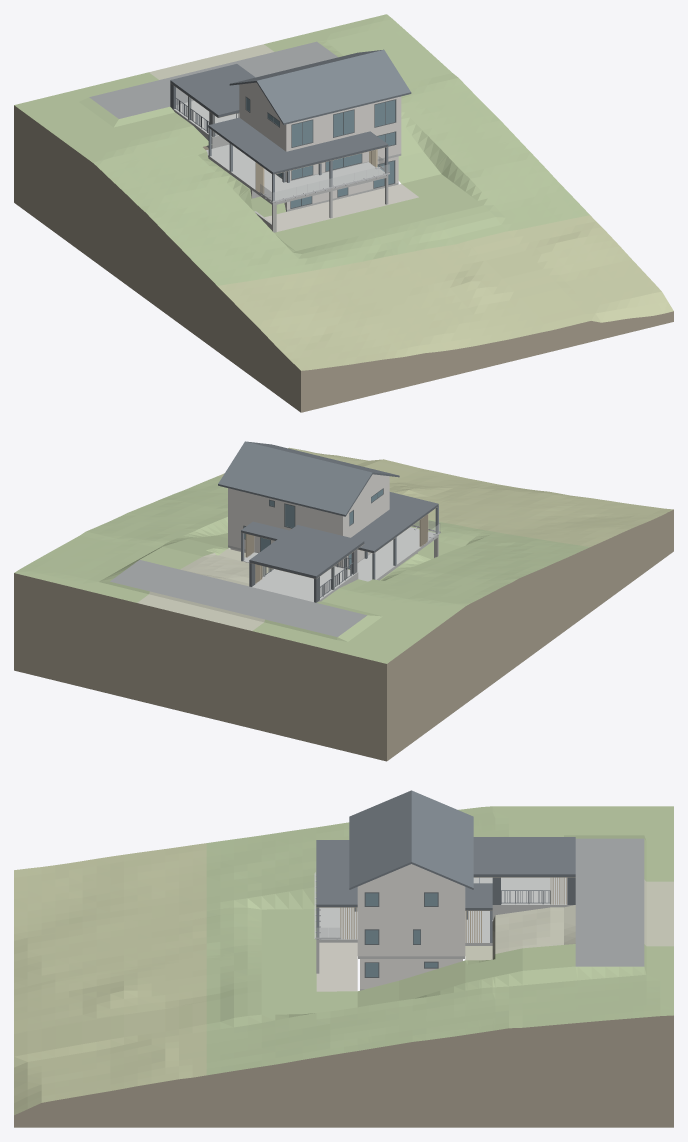
Rendered from Schaffernak_Haus_C.glb.
3 views of the same model, one above another, from view 1: azimuth 30°, elevation 25°; view 2: azimuth 150°, elevation 25°; view 3: azimuth 270°, elevation 25° (orthographic). The views are drawn at different scales.
Visible parts, largest first — view 1: Foto_Gelaende_Rasen_Boeschung, Foto_Gelaende_Hang_unten, Foto_Gelaende_Modellrand, Satteldach_0, Strasse_parallel_zum_Haus_schematisch, Foto_Gelaende_Kies_Kellerbereich, Entwurf_Dach_vorne, Carport_Dach, Balkon_vorne, Foto_Gelaende_Seitliche_Gruenflaeche, Entwurf_Dach_links, Foto_Gelaende_Rueckseite (+3 smaller); view 2: Foto_Gelaende_Modellrand, Foto_Gelaende_Rasen_Boeschung, Foto_Gelaende_Hang_unten, Strasse_parallel_zum_Haus_schematisch, Satteldach_1, Foto_Gelaende_Rueckseite, Carport_Dach, Foto_Gelaende_Seitliche_Gruenflaeche, Carport_Boden, Entwurf_Dach_links, Balkon_links, OG_back_Wand4 (+5 smaller); view 3: Foto_Gelaende_Rasen_Boeschung, Foto_Gelaende_Modellrand, Foto_Gelaende_Hang_unten, Strasse_parallel_zum_Haus_schematisch, Foto_Gelaende_Rueckseite, Foto_Gelaende_Seitliche_Gruenflaeche, Satteldach_0, Satteldach_1, Carport_Dach, Entwurf_Dach_vorne, Carport_Boden, Foto_Gelaende_Kies_Kellerbereich (+9 smaller).
Part boxes in pixels (x1,y1,x2,y2): Foto_Gelaende_Rasen_Boeschung: [14, 14, 589, 285]; Foto_Gelaende_Hang_unten: [217, 215, 673, 370]; Foto_Gelaende_Modellrand: [14, 105, 673, 412]; Satteldach_0: [256, 50, 411, 124]; Strasse_parallel_zum_Haus_schematisch: [89, 41, 337, 118]; Foto_Gelaende_Kies_Kellerbereich: [265, 184, 418, 231]; Entwurf_Dach_vorne: [255, 131, 388, 174]; Carport_Dach: [171, 64, 254, 114]; Balkon_vorne: [255, 162, 388, 205]; Foto_Gelaende_Seitliche_Gruenflaeche: [264, 34, 440, 183]; Entwurf_Dach_links: [208, 117, 285, 160]; Foto_Gelaende_Rueckseite: [149, 44, 273, 79]; Foto_Gelaende_Modellrand: [14, 509, 673, 761]; Foto_Gelaende_Rasen_Boeschung: [14, 476, 589, 663]; Foto_Gelaende_Hang_unten: [218, 447, 673, 546]; Strasse_parallel_zum_Haus_schematisch: [110, 560, 366, 636]; Satteldach_1: [218, 441, 372, 516]; Foto_Gelaende_Rueckseite: [137, 549, 272, 630]; Carport_Dach: [250, 525, 363, 575]; Foto_Gelaende_Seitliche_Gruenflaeche: [97, 533, 229, 602]; Carport_Boden: [252, 569, 352, 602]; Entwurf_Dach_links: [351, 509, 420, 552]; Balkon_links: [357, 540, 420, 580]; OG_back_Wand4: [228, 488, 268, 522]; Foto_Gelaende_Rasen_Boeschung: [206, 806, 673, 1075]; Foto_Gelaende_Modellrand: [14, 1015, 673, 1127]; Foto_Gelaende_Hang_unten: [14, 843, 206, 1115]; Strasse_parallel_zum_Haus_schematisch: [575, 838, 644, 966]; Foto_Gelaende_Rueckseite: [465, 879, 673, 960]; Foto_Gelaende_Seitliche_Gruenflaeche: [357, 944, 673, 1007]; Satteldach_0: [349, 790, 411, 889]; Satteldach_1: [411, 790, 473, 889]; Carport_Dach: [473, 837, 575, 874]; Entwurf_Dach_vorne: [316, 840, 357, 907]; Carport_Boden: [492, 877, 573, 906]; Foto_Gelaende_Kies_Kellerbereich: [316, 942, 357, 991].
Bounding box in the file's own units: 36 × 16.06 × 48.
